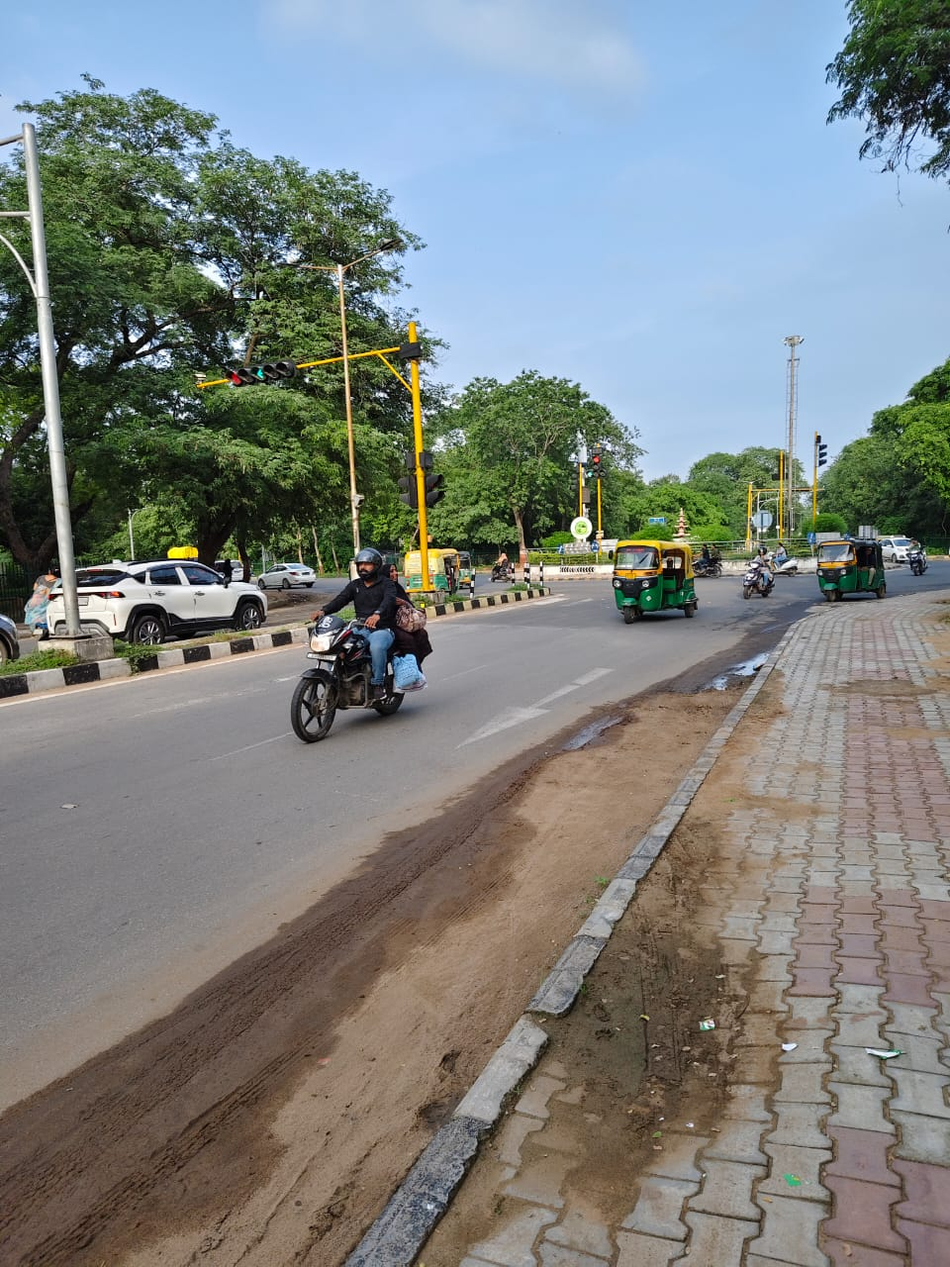BikeWithRider: (283, 543, 435, 745), (487, 551, 516, 582)
Helmet: (350, 543, 386, 583)
NoHelmet: (378, 560, 402, 588)
